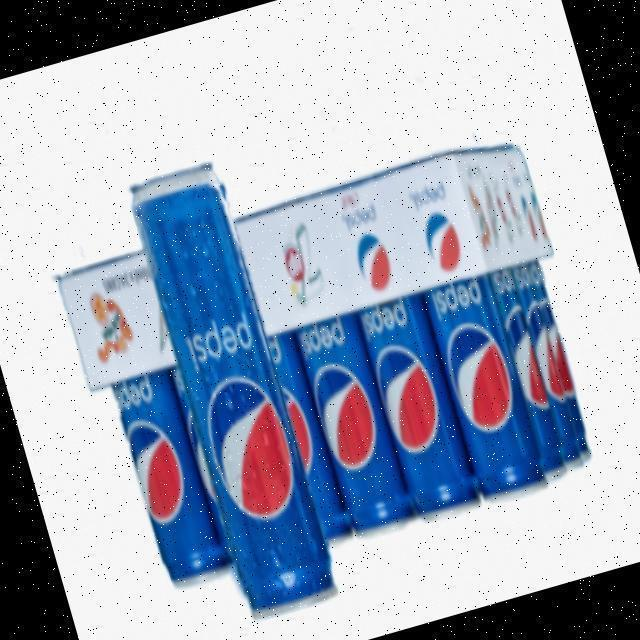metal-can: (132, 167, 326, 596), (365, 294, 469, 501), (299, 319, 406, 511), (435, 281, 531, 484), (120, 383, 212, 568), (489, 277, 558, 453), (515, 269, 578, 443), (273, 339, 334, 512), (532, 266, 583, 427)
